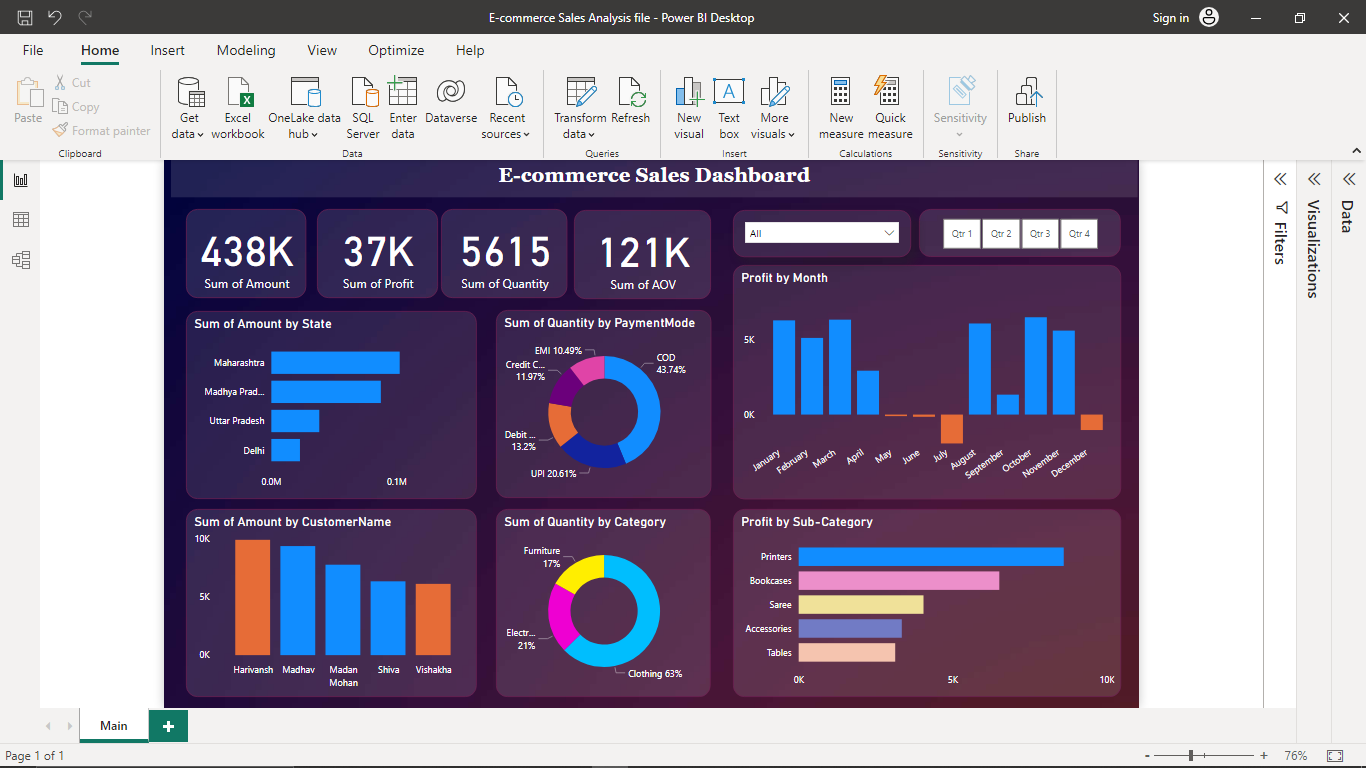

The dashboard page shown, as its layout file describes it:
{"tool":"powerbi","page":{"name":"Main","canvas":[1280,720],"ordinal":0},"visuals":[{"type":"textbox","box":[9.6,0,1269.9,49.4],"z":0},{"type":"clusteredColumnChart","title":"Profit by Month","fields":{"Y":["Details.Profit"],"Category":["Orders.Order Date.Variation.Date Hierarchy.Month"]},"box":[747.7,137.5,510.2,307.5],"z":1000},{"type":"barChart","title":"Profit by Sub-Category","fields":{"Category":["Details.Sub-Category"],"Y":["Details.Profit"]},"box":[747.7,458.3,510.2,247.2],"z":2000},{"type":"donutChart","fields":{"Category":["Details.Category"],"Y":["Details.Quantity"]},"box":[436.6,458.3,282.2,247.2],"z":3000},{"type":"donutChart","fields":{"Category":["Details.PaymentMode"],"Y":["Details.Quantity"]},"box":[436.4,197.6,282.7,247],"z":4000},{"type":"card","fields":{"Values":["Details.Amount"]},"box":[28.9,63.9,158,117],"z":5000},{"type":"card","fields":{"Values":["Details.Profit"]},"box":[201.4,63.9,159.2,117],"z":6000},{"type":"card","fields":{"Values":["Details.Quantity"]},"box":[364.2,63.9,166.4,117],"z":7000},{"type":"card","fields":{"Values":["Details.AOV"]},"box":[539.1,65.1,179.7,117],"z":8000},{"type":"barChart","fields":{"Category":["Orders.State"],"Y":["Details.Amount"]},"box":[28.9,197.8,382.3,247.2],"z":9000},{"type":"clusteredColumnChart","fields":{"Category":["Orders.CustomerName"],"Y":["Details.Amount"]},"box":[29,458,382,247],"z":10000},{"type":"slicer","fields":{"Values":["Orders.Order Date.Variation.Date Hierarchy.Quarter"]},"box":[992.6,63.9,265.3,62.7],"z":11000},{"type":"slicer","fields":{"Values":["Orders.State"]},"box":[747.7,65.1,234,61.5],"z":12000}]}

Visuals, with their boxes on the page's 1280x720 design canvas (x1, y1, x2, y2). These are canvas units, not pixel positions in the 1366x768 screenshot, which may show the page scaled, cropped or inside an application window:
textbox: (x1=10, y1=0, x2=1280, y2=49)
"Profit by Month" clusteredColumnChart: (x1=748, y1=138, x2=1258, y2=445)
"Profit by Sub-Category" barChart: (x1=748, y1=458, x2=1258, y2=706)
donutChart - Details.Category x Details.Quantity: (x1=437, y1=458, x2=719, y2=706)
donutChart - Details.PaymentMode x Details.Quantity: (x1=436, y1=198, x2=719, y2=445)
card - Details.Amount: (x1=29, y1=64, x2=187, y2=181)
card - Details.Profit: (x1=201, y1=64, x2=361, y2=181)
card - Details.Quantity: (x1=364, y1=64, x2=531, y2=181)
card - Details.AOV: (x1=539, y1=65, x2=719, y2=182)
barChart - Orders.State x Details.Amount: (x1=29, y1=198, x2=411, y2=445)
clusteredColumnChart - Orders.CustomerName x Details.Amount: (x1=29, y1=458, x2=411, y2=705)
slicer - Orders.Order Date.Variation.Date Hierarchy.Quarter: (x1=993, y1=64, x2=1258, y2=127)
slicer - Orders.State: (x1=748, y1=65, x2=982, y2=127)
